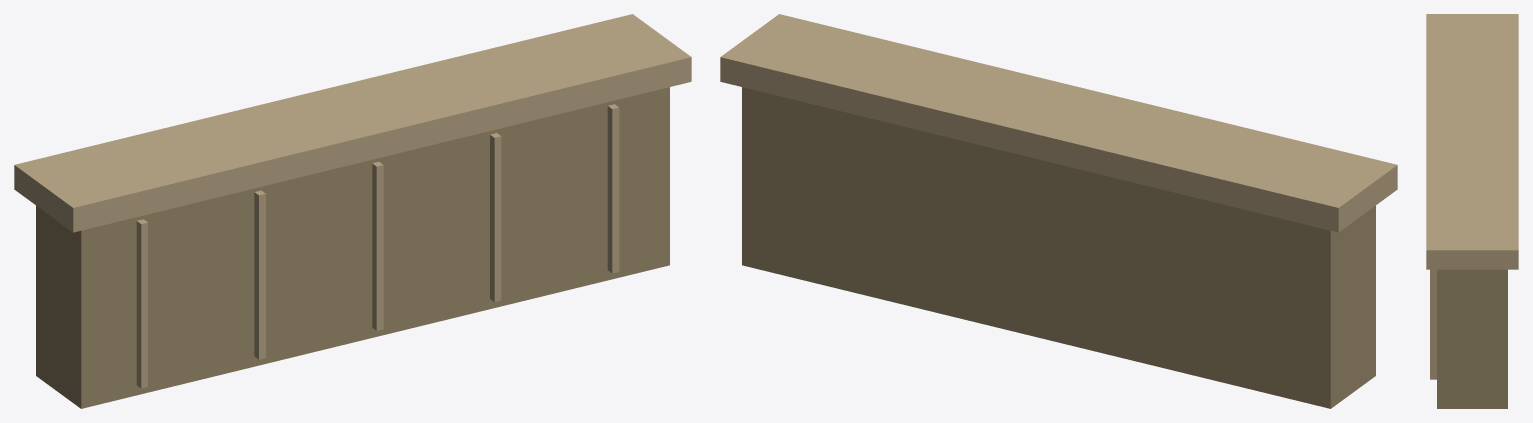
File: PirateCove_FortBankWall_Standard.glb
3 views of the same model, side by side, from view 1: azimuth 30°, elevation 25°; view 2: azimuth 150°, elevation 25°; view 3: azimuth 270°, elevation 25° (orthographic). The views are drawn at different scales.
Visible parts, largest first — view 1: PirateCove_FortBankWall_Standard; view 2: PirateCove_FortBankWall_Standard; view 3: PirateCove_FortBankWall_Standard.
Boxes of the visible parts, box(x1,y1,x2,y2) form: PirateCove_FortBankWall_Standard: box(14, 14, 691, 408); PirateCove_FortBankWall_Standard: box(720, 14, 1397, 408); PirateCove_FortBankWall_Standard: box(1426, 14, 1518, 408).
Bounding box in the file's own units: 3.15 × 1.02 × 0.52.
